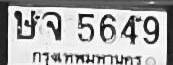4: (120, 13, 140, 44)
5: (77, 12, 93, 41)
6: (99, 12, 115, 42)
9: (142, 15, 158, 44)
A08: (42, 11, 60, 40)
A39: (13, 9, 38, 39)
BKK: (27, 48, 146, 65)
